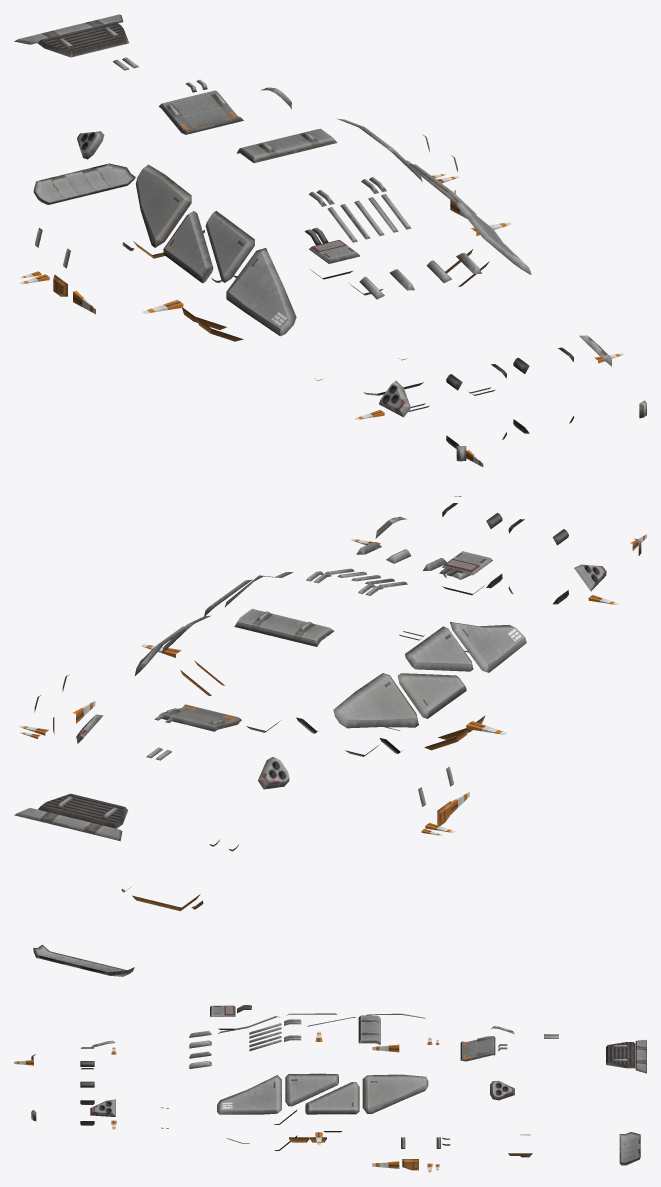
File: hgn_cf_torp_01_t4.glb
The picture shows the model from 3 angles, top to bottom: view 1: azimuth 30°, elevation 25°; view 2: azimuth 150°, elevation 25°; view 3: azimuth 270°, elevation 25°; orthographic projection. The views are drawn at different scales.
Parts seen in each view (by area): view 1: hgn_torpedo_frigate_01_t4_LOD0; view 2: hgn_torpedo_frigate_01_t4_LOD0; view 3: hgn_torpedo_frigate_01_t4_LOD0.
Part boxes in pixels (x1,y1,x2,y2): hgn_torpedo_frigate_01_t4_LOD0: [14, 14, 646, 466]; hgn_torpedo_frigate_01_t4_LOD0: [14, 496, 646, 976]; hgn_torpedo_frigate_01_t4_LOD0: [14, 1005, 646, 1172].
Size of what is drawn, in the model's own units: 1.48 by 0.6517 by 2.93.
1 material, 1 textured.
